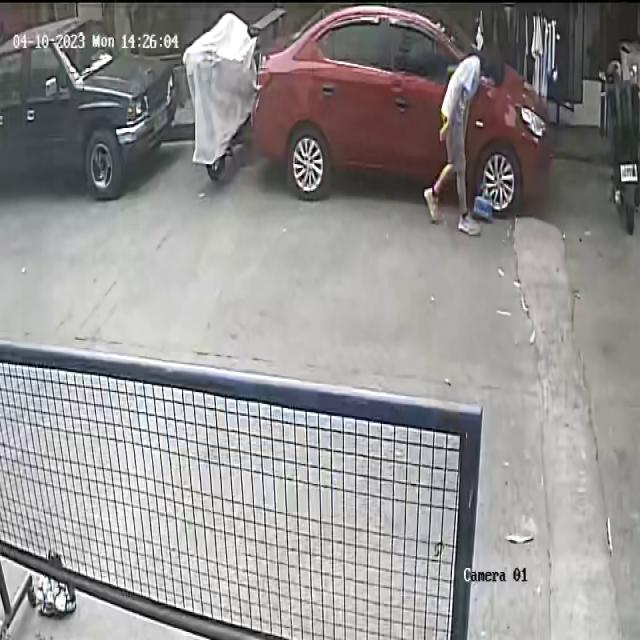garbage_dumping: (471, 187, 498, 231)
